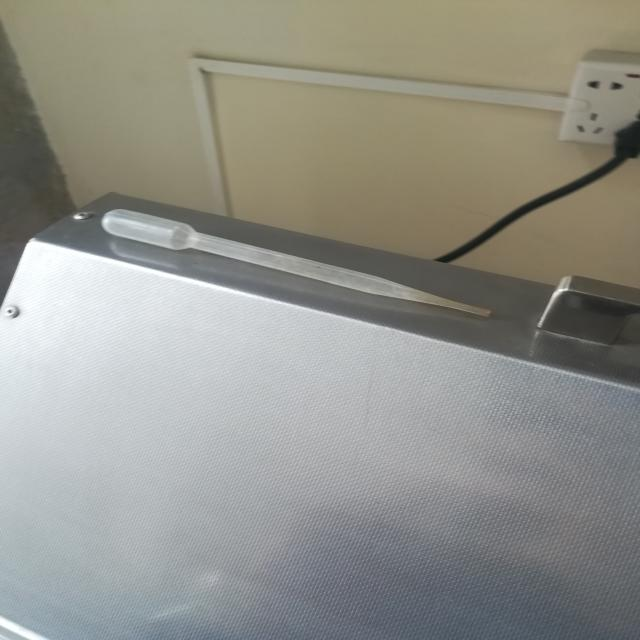Pipette: (67, 176, 528, 362)
